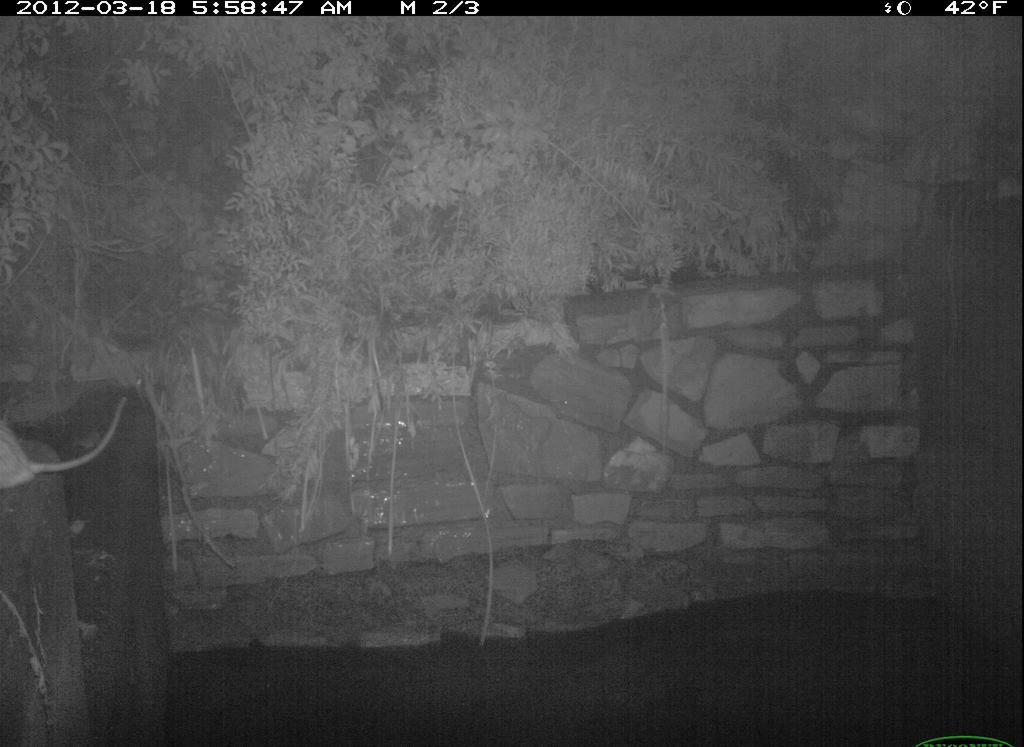rodent: (1, 381, 132, 501)
